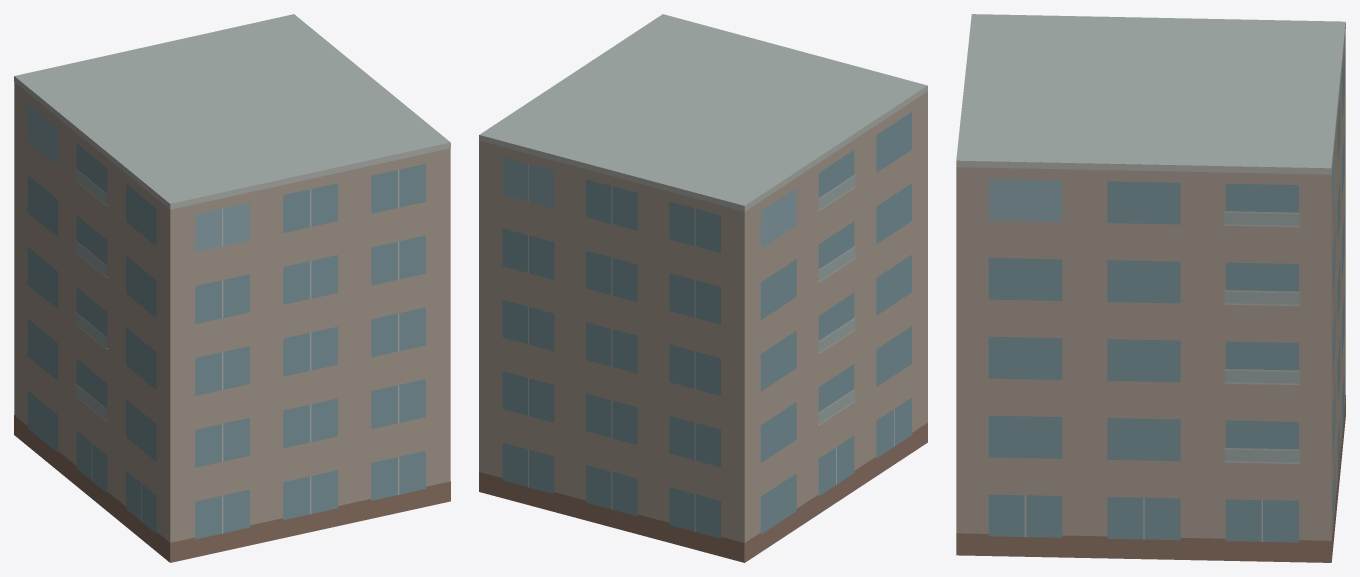
The model's file is survey-upis-33032189.glb.
3 views of the same model, side by side, from view 1: azimuth 30°, elevation 25°; view 2: azimuth 150°, elevation 25°; view 3: azimuth 270°, elevation 25° (orthographic). The views are drawn at different scales.
Parts seen in each view (by area): view 1: survey-upis-33032189.tmp; view 2: survey-upis-33032189.tmp; view 3: survey-upis-33032189.tmp.
Part boxes in pixels (x1,y1,x2,y2): survey-upis-33032189.tmp: (14, 14, 450, 562); survey-upis-33032189.tmp: (479, 14, 927, 562); survey-upis-33032189.tmp: (956, 14, 1345, 562).
Size of the model in its own units: 12.67 by 15.1 by 13.52.
